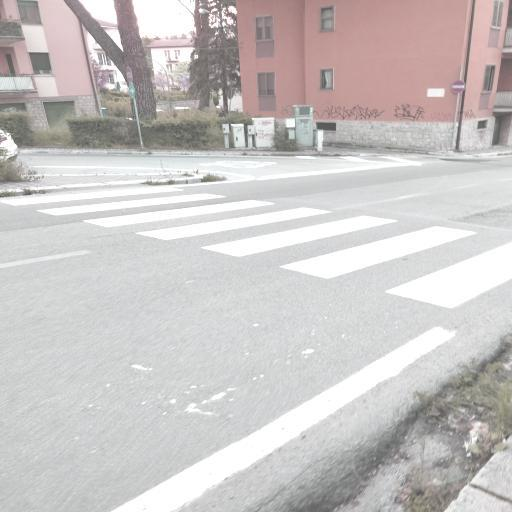crosswalk: (126, 205, 404, 263)
